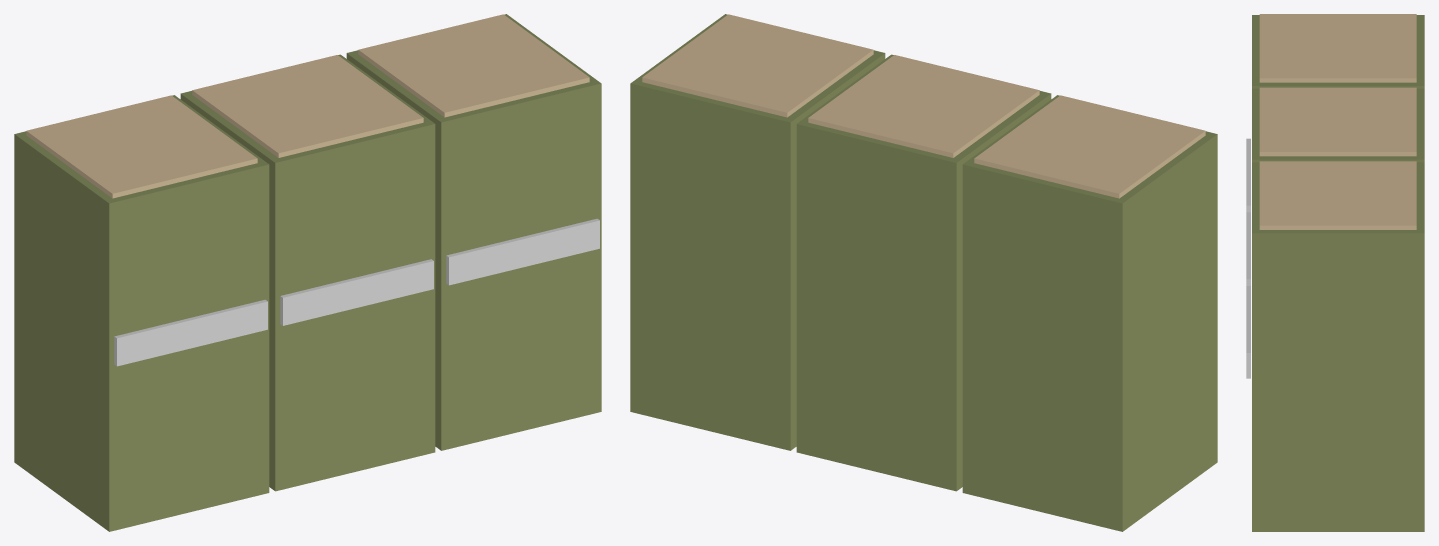
File: SM_HescoCorto3_v0_MallaLimpia_e0_Sano_LOD1.fbx
3 views of the same model, side by side, from view 1: azimuth 30°, elevation 25°; view 2: azimuth 150°, elevation 25°; view 3: azimuth 270°, elevation 25° (orthographic). The views are drawn at different scales.
Parts seen in each view (by area): view 1: SM_hesco_piezas_v80_LOD1; view 2: SM_hesco_piezas_v80_LOD1; view 3: SM_hesco_piezas_v80_LOD1.
Boxes of the visible parts, x1,y1,x2,y2 form: SM_hesco_piezas_v80_LOD1: (14, 14, 601, 531); SM_hesco_piezas_v80_LOD1: (630, 14, 1217, 531); SM_hesco_piezas_v80_LOD1: (1246, 14, 1424, 531).
Bounding box in the file's own units: 3.29 × 2.13 × 1.13.
